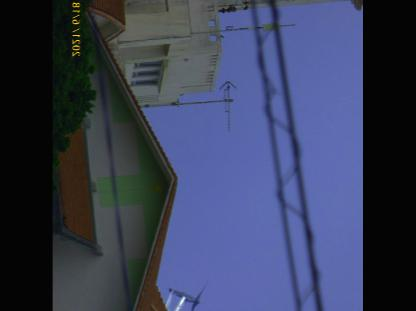Tornado: (165, 279, 210, 310)
